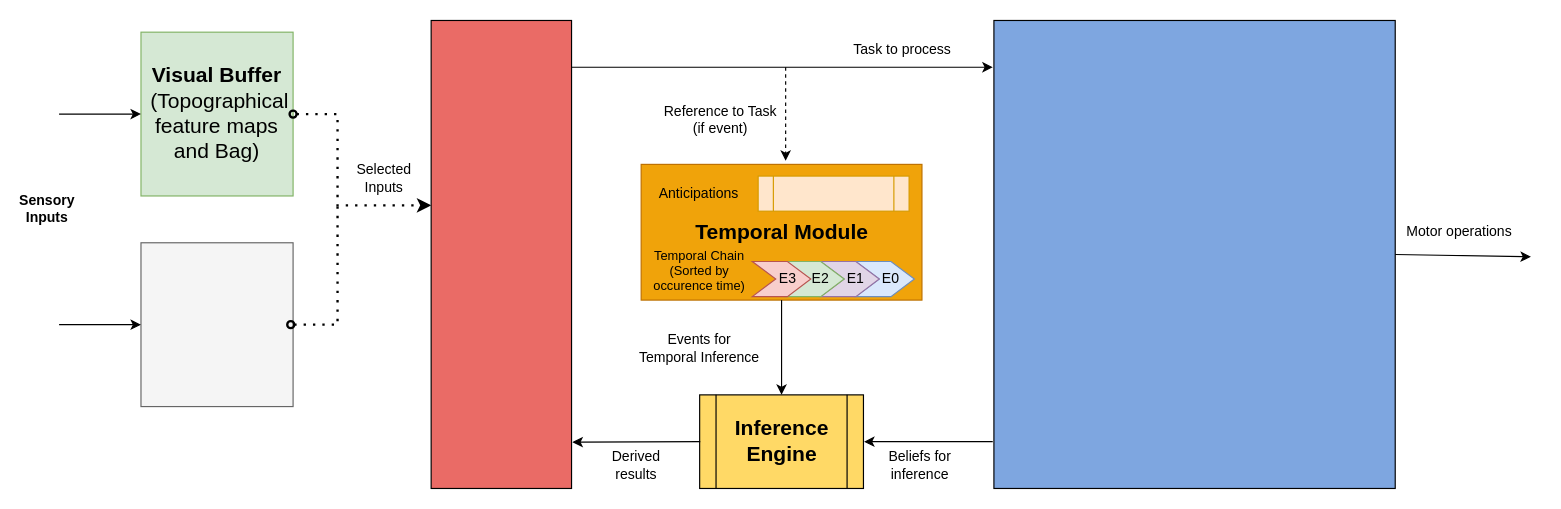
Some shapes in this 1561 by 509 pixel diagram are drawn without their labels. Here are the shapes that lost their labels. From the top down, the centre of each, then its label:
At (833,193): "{A =/> B,A} ⊢ B".
At (501,253): "Global Buffer (Queue)".
At (1194,253): "Memory (bag)".
At (216,324): "Narsese Buffer (Queue)".
